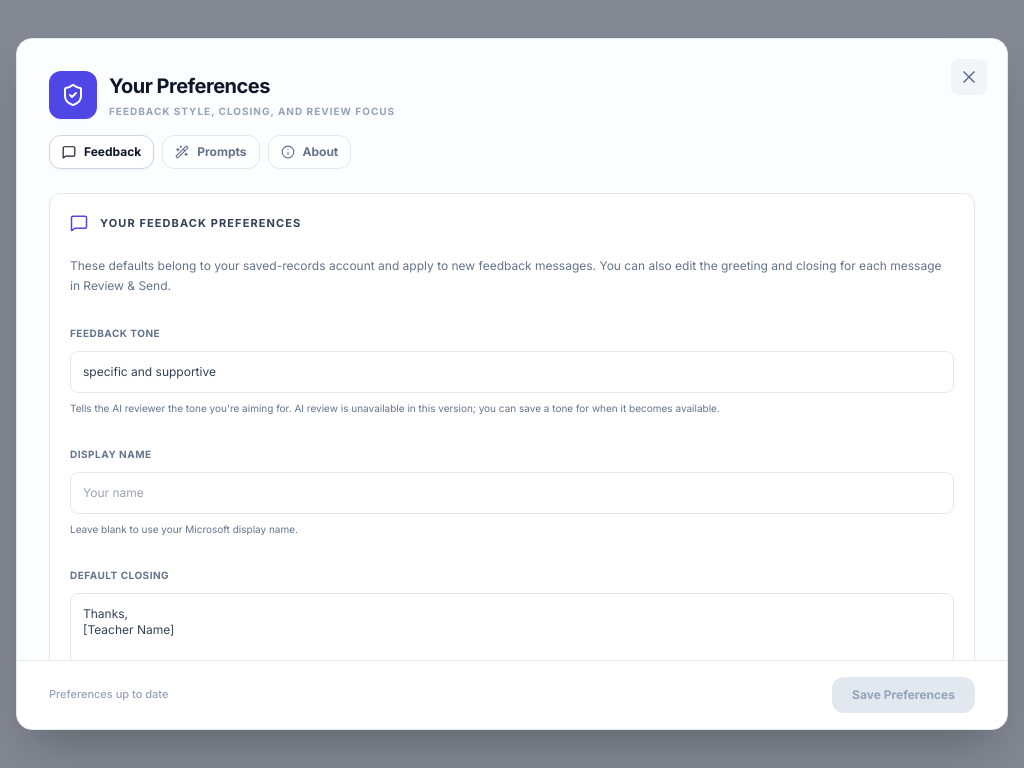
Test: review focus settings › shows the default for a stored blank value and is not left dirty after Reset + save
Later steps or results of the test are not shown.
Click the button "Prompts" at (211, 152), box [162, 135, 260, 169]
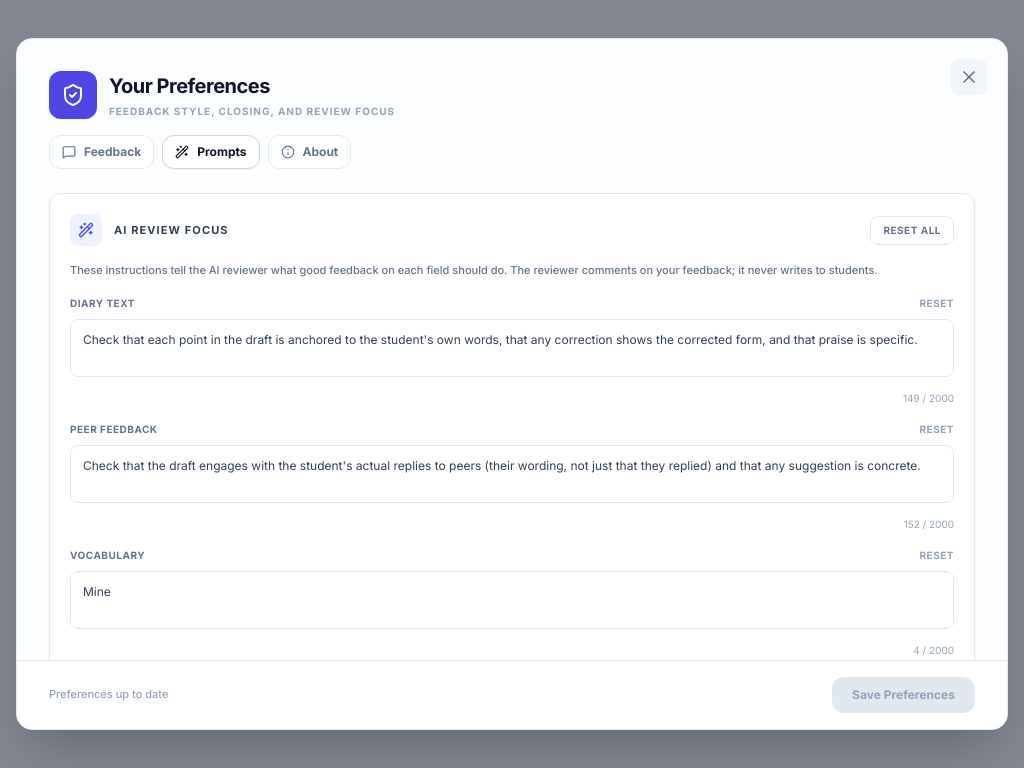
Expected: the button "Save Preferences" is disabled, [832, 677, 975, 713]
Click the button "Reset" in the row of "Vocabulary" at (937, 556), box [920, 548, 954, 563]
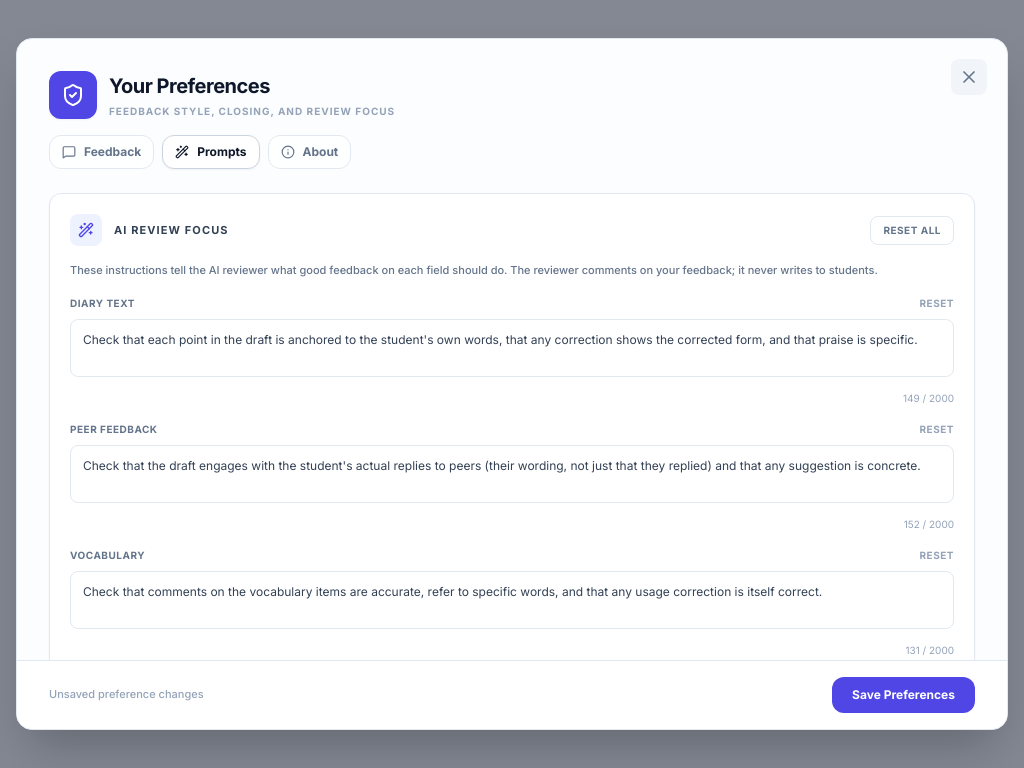
Click the button "Save Preferences" at (904, 695), box [832, 677, 975, 713]
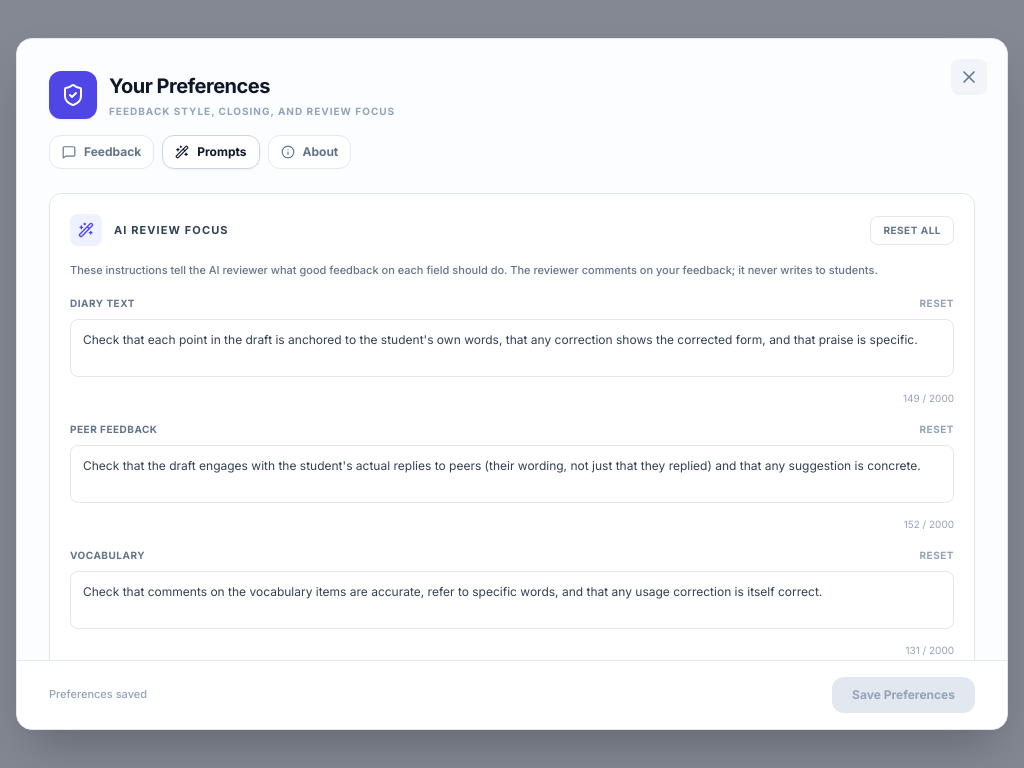
Now the button "Save Preferences" is disabled, box [832, 677, 975, 713]
